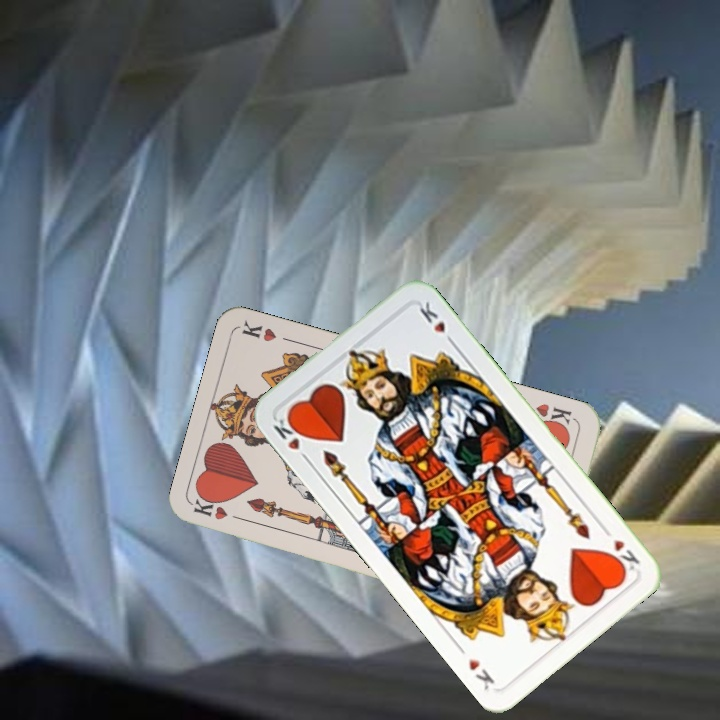HK: (598, 523, 643, 578), (269, 411, 313, 466), (190, 495, 249, 524), (532, 399, 575, 432)
